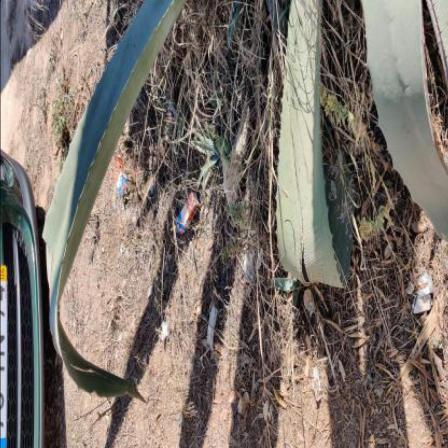Carton: (176, 191, 201, 237), (113, 155, 130, 205)
Plastic bag - wrapper: (413, 295, 432, 315), (313, 367, 322, 403)
Straw: (171, 225, 177, 233)
Unlabeled litter: (208, 308, 218, 351), (417, 276, 435, 299), (131, 162, 140, 193), (163, 323, 169, 342)
